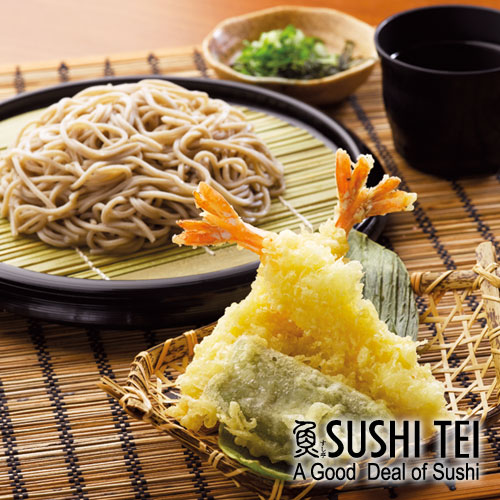Soba: (1, 85, 285, 245)
